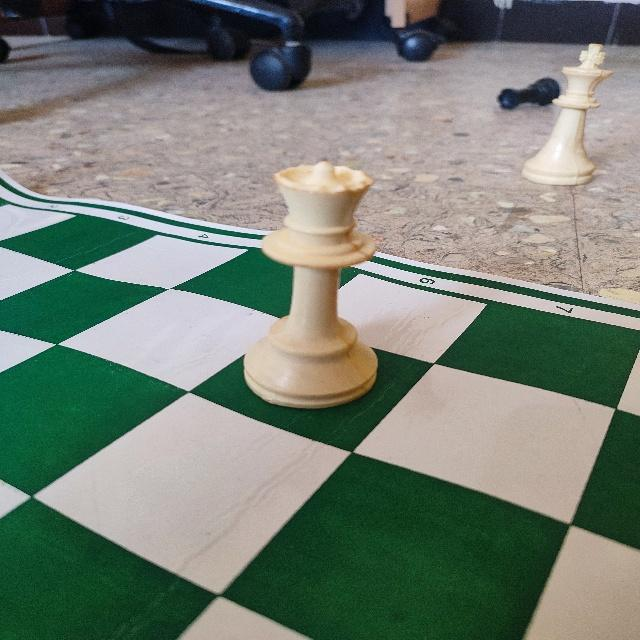Queen: (238, 162, 381, 412)
